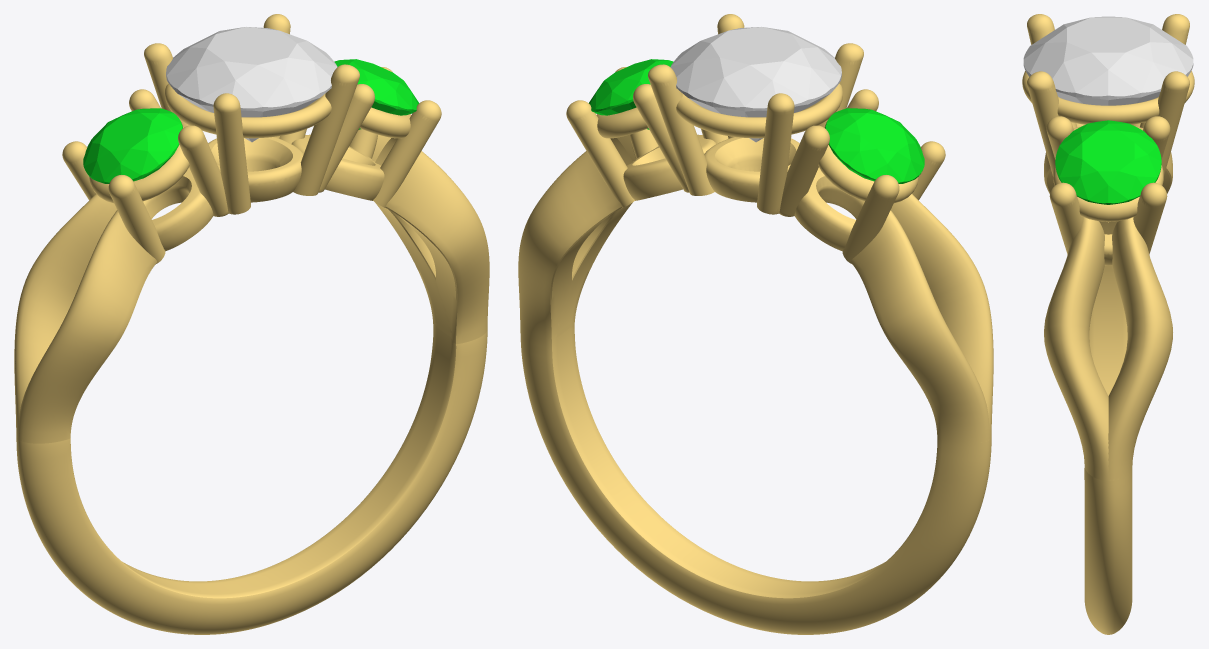
File: MitchV2_blender.glb
3 renders of one model, left to right at view 1: azimuth 30°, elevation 25°; view 2: azimuth 150°, elevation 25°; view 3: azimuth 270°, elevation 25°, orthographic.
Visible parts, largest first — view 1: Mitch YG prongs for 3d model, Mitch dia for 3d model, Mitch emerald for 3d model.001, Mitch emerald for 3d model; view 2: Mitch YG prongs for 3d model, Mitch dia for 3d model, Mitch emerald for 3d model.001, Mitch emerald for 3d model; view 3: Mitch YG prongs for 3d model, Mitch dia for 3d model, Mitch emerald for 3d model.
Part boxes in pixels (left/top/right/bottom): Mitch YG prongs for 3d model: left=14, top=14, right=489, bottom=634; Mitch dia for 3d model: left=166, top=27, right=337, bottom=142; Mitch emerald for 3d model.001: left=83, top=108, right=182, bottom=183; Mitch emerald for 3d model: left=334, top=59, right=418, bottom=129; Mitch YG prongs for 3d model: left=518, top=14, right=993, bottom=634; Mitch dia for 3d model: left=670, top=27, right=841, bottom=142; Mitch emerald for 3d model.001: left=825, top=108, right=924, bottom=183; Mitch emerald for 3d model: left=589, top=59, right=673, bottom=129; Mitch YG prongs for 3d model: left=1022, top=14, right=1194, bottom=634; Mitch dia for 3d model: left=1023, top=16, right=1193, bottom=105; Mitch emerald for 3d model: left=1055, top=120, right=1161, bottom=204.
Size of the model in its own units: 20.1 by 23.89 by 6.49.
